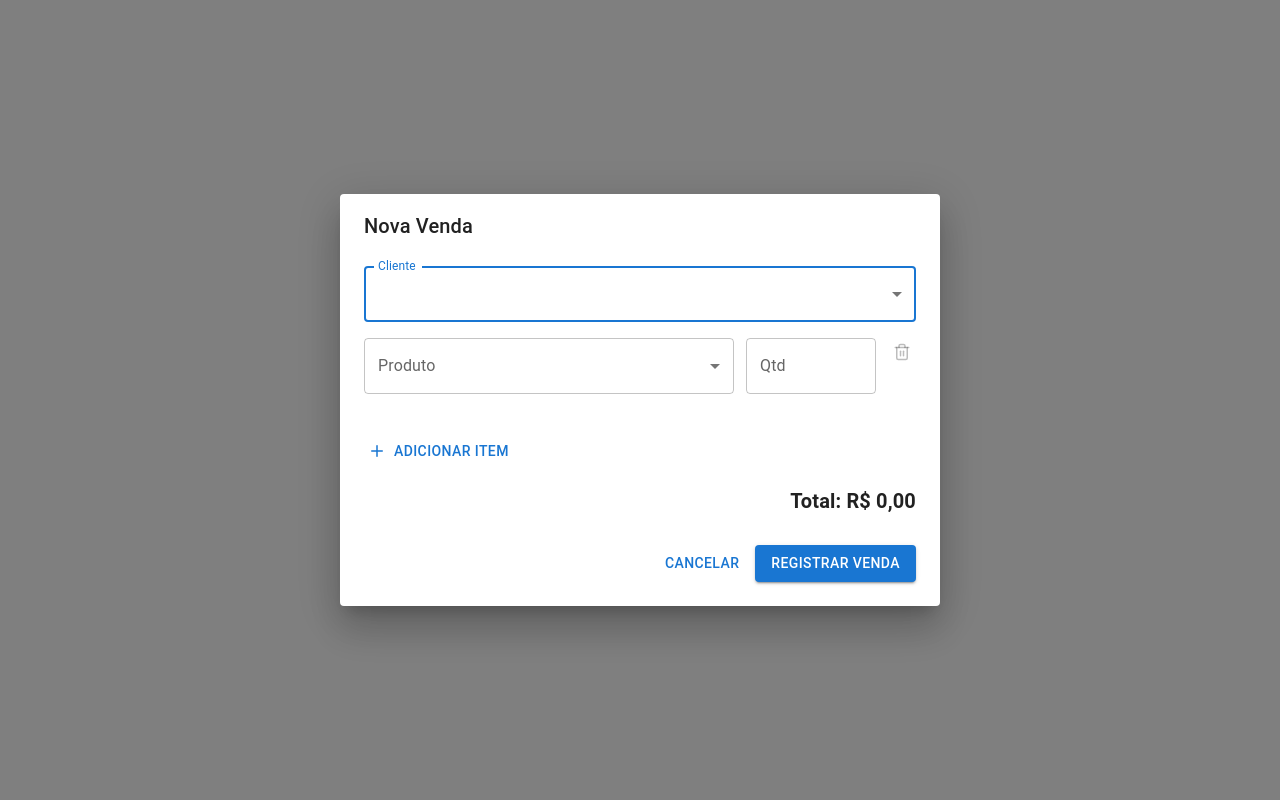
Test: SaleFormDialog › deve exibir mensagens de validação e não enviar, quando campos obrigatórios estão vazios
The width and height of the screenshot is (1280, 800).
Click the button "Registrar venda" at (836, 564), box left=755, top=546, right=916, bottom=582
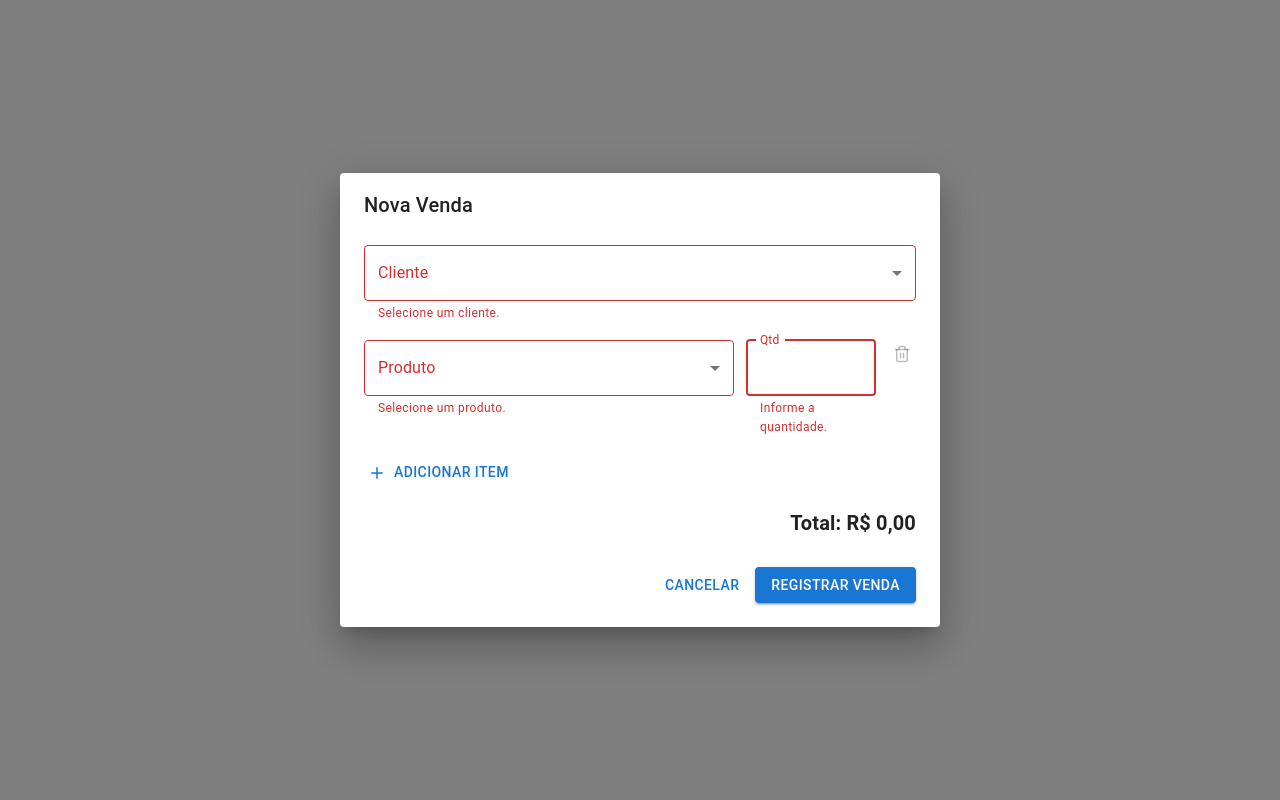
Now the text "Selecione um cliente." is shown, box left=378, top=306, right=500, bottom=320
Now the text "Selecione um produto." is shown, box left=378, top=400, right=506, bottom=414
Now the text "Informe a quantidade." is shown, box left=760, top=400, right=827, bottom=434
